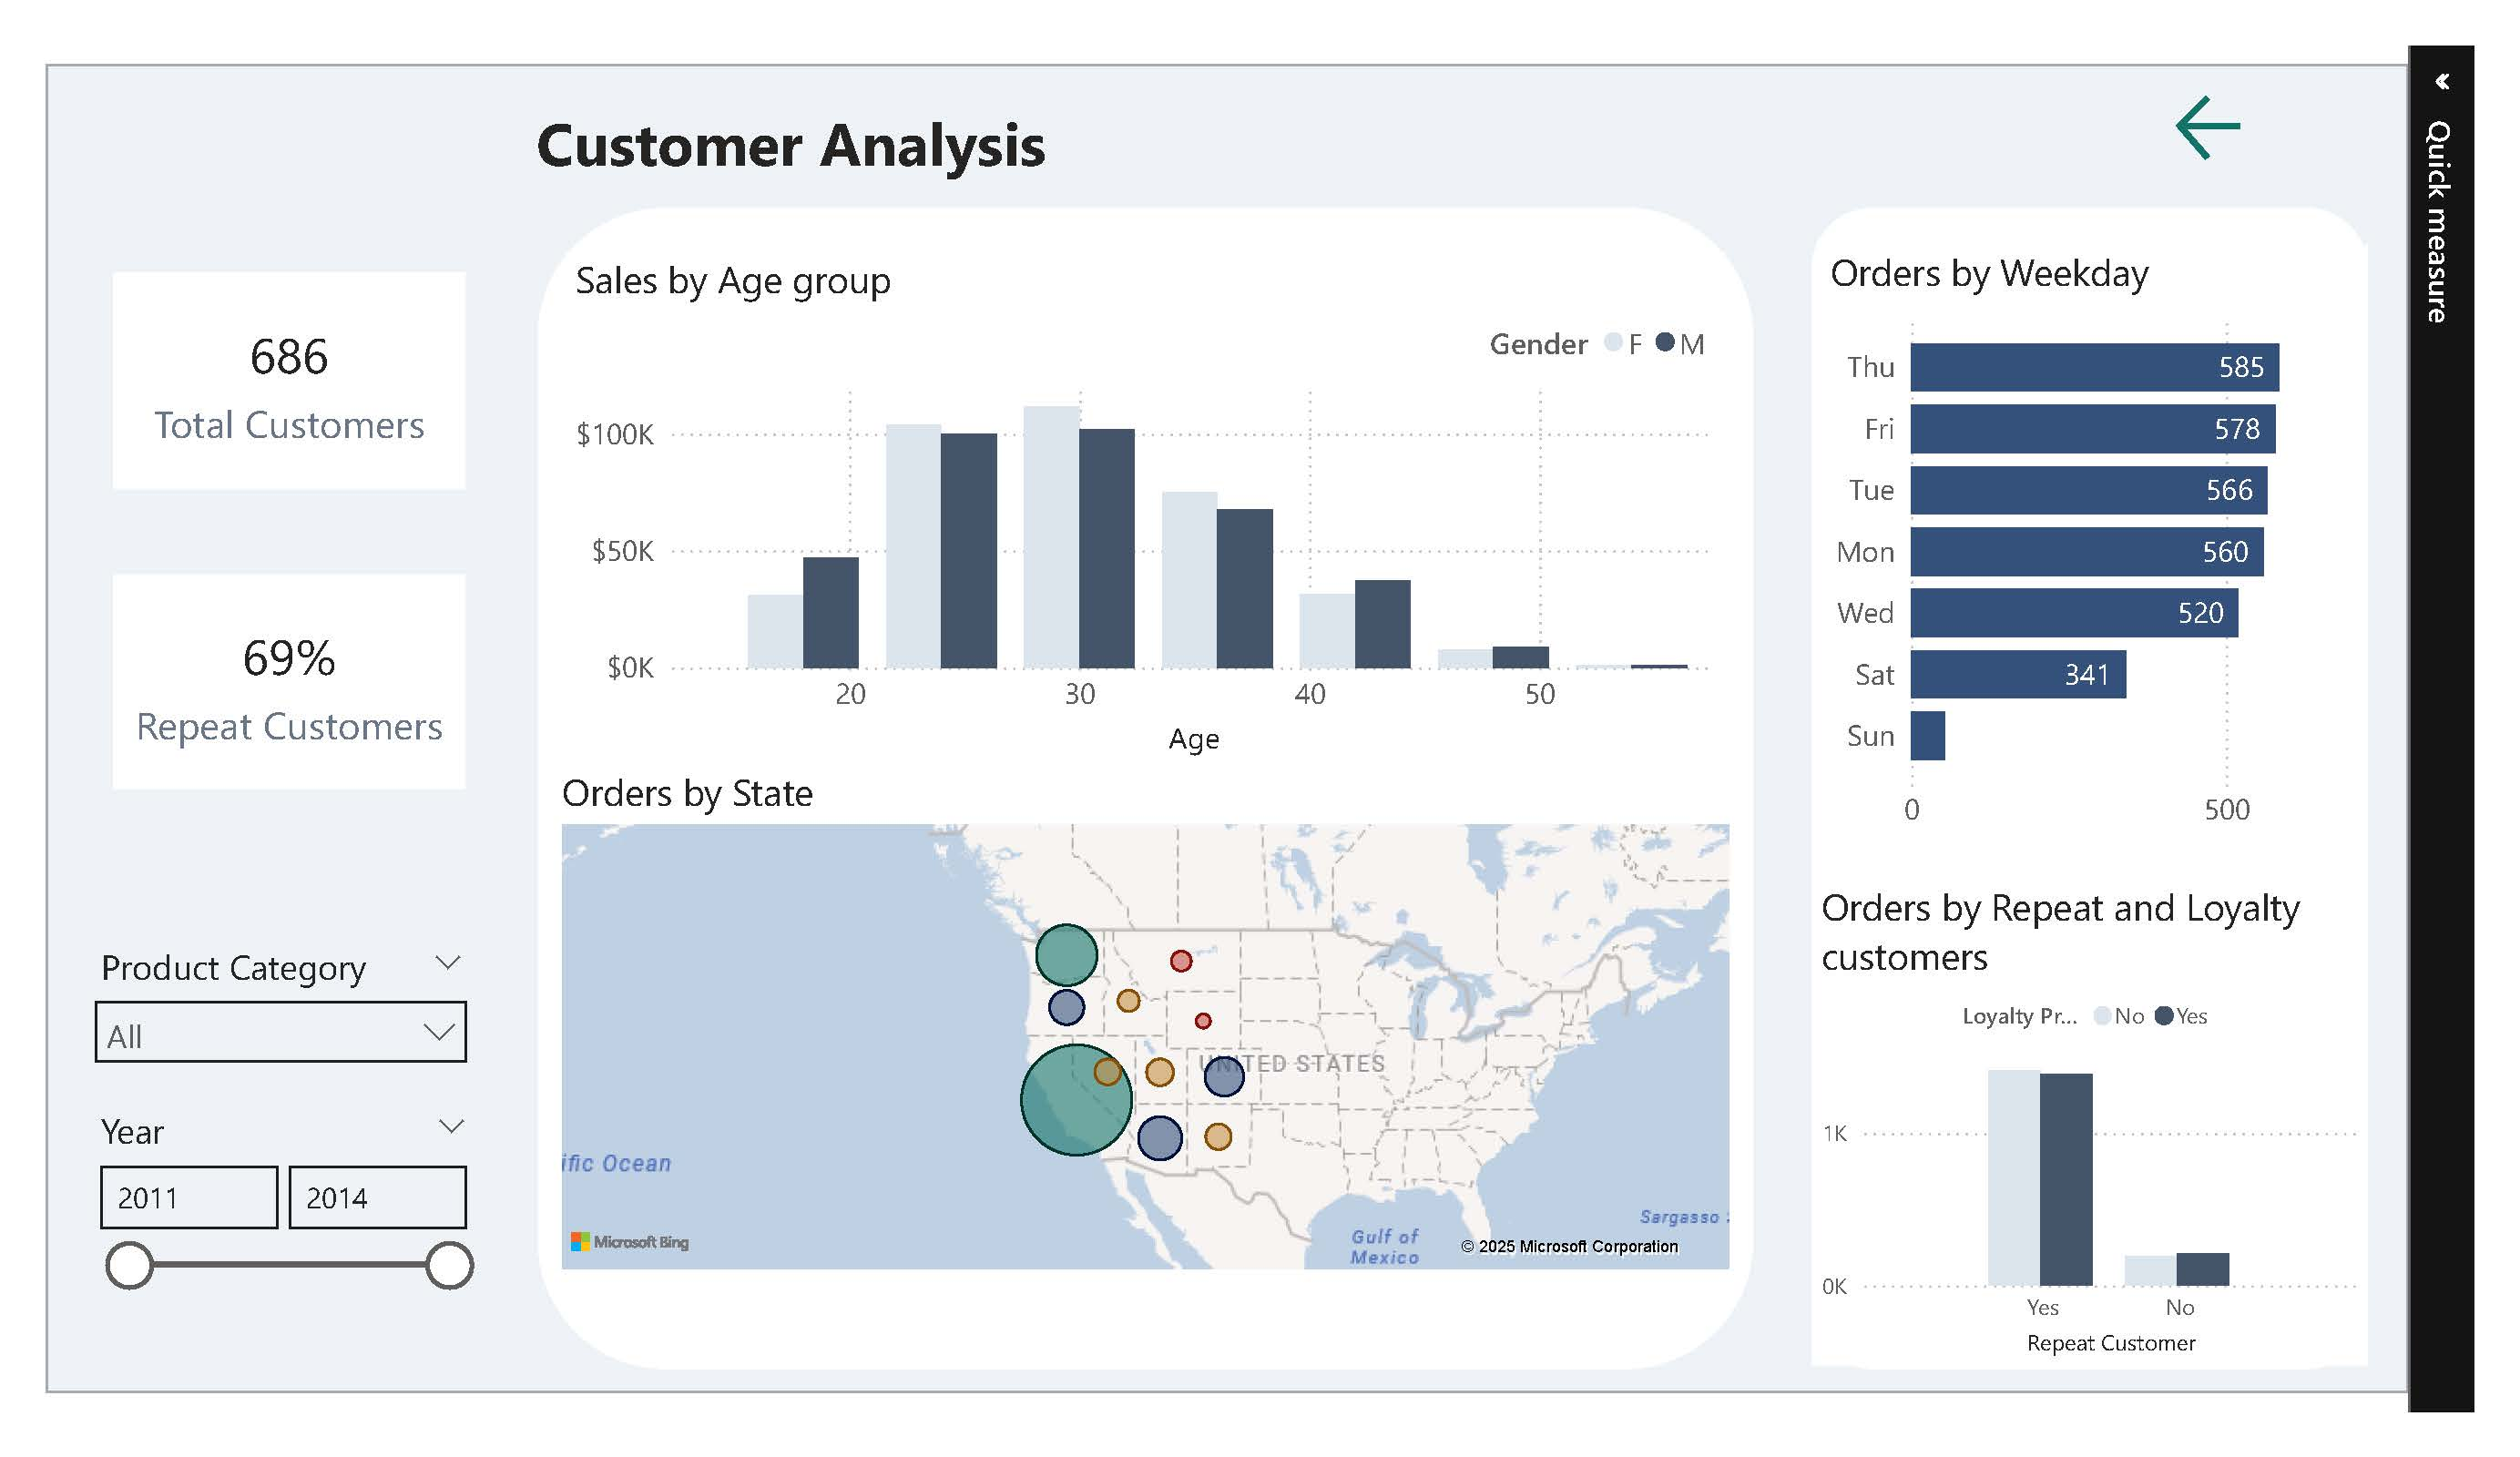

Layout of this report page (visuals, bound fields, positions):
{"tool":"powerbi","page":{"name":"Customer","canvas":[1280,720],"ordinal":3},"visuals":[{"type":"shape","box":[0,0,1280,720],"z":0},{"type":"shape","box":[266.7,78.3,658.3,628.3],"z":1000},{"type":"shape","box":[956.7,78.3,301.7,628.3],"z":2000},{"type":"clusteredColumnChart","title":"Sales by Age group","fields":{"Category":["Customer.Age (bins)"],"Y":["Sum(Sales.Sales)"],"Series":["Customer.Gender"]},"box":[281.7,101.7,628.3,278.3],"z":3000},{"type":"clusteredBarChart","title":"Orders by Weekday","fields":{"Category":["Sales.Weekday name"],"Y":["CountNonNull(Sales.Order ID)"]},"box":[961.4,98.6,297.1,281.4],"z":4000},{"type":"card","fields":{"Values":["Count(Customer.EmailID)"]},"box":[36.7,113.3,190,116.7],"z":5000},{"type":"card","fields":{"Values":["Customer.% repeat cust"]},"box":[36.7,276.7,190,116.7],"z":6000},{"type":"clusteredColumnChart","title":"Orders by Repeat and Loyalty customers","fields":{"Category":["Customer.Is Repeat Customer"],"Series":["Customer.Loyalty Program"],"Y":["CountNonNull(Sales.Order ID)"]},"box":[957.1,394.3,301.4,282.9],"z":7000},{"type":"textbox","box":[261.5,15.4,415.3,63.2],"z":8000},{"type":"map","title":"Orders by State ","fields":{"Category":["Sales.Location State"],"Size":["Sales.Orders per State Measure"]},"box":[276.2,380,641.2,307.5],"z":9000},{"type":"actionButton","box":[1150,11.7,50,45],"z":10000},{"type":"slicer","fields":{"Values":["Product.Category"]},"box":[17.3,471.3,220.7,78.8],"z":11000},{"type":"slicer","fields":{"Values":["Sales.Order Date.Variation.Date Hierarchy.Year"]},"box":[16.7,560,223.3,160],"z":12000}]}

Visuals, with their boxes on the page's 1280x720 design canvas (x1, y1, x2, y2). These are canvas units, not pixel positions in the 2520x1457 screenshot, which may show the page scaled, cropped or inside an application window:
shape: l=0, t=0, r=1280, b=720
shape: l=267, t=78, r=925, b=707
shape: l=957, t=78, r=1258, b=707
"Sales by Age group" clusteredColumnChart: l=282, t=102, r=910, b=380
"Orders by Weekday" clusteredBarChart: l=961, t=99, r=1258, b=380
card - Count(Customer.EmailID): l=37, t=113, r=227, b=230
card - Customer.% repeat cust: l=37, t=277, r=227, b=393
"Orders by Repeat and Loyalty customers" clusteredColumnChart: l=957, t=394, r=1258, b=677
textbox: l=262, t=15, r=677, b=79
"Orders by State " map: l=276, t=380, r=917, b=688
actionButton: l=1150, t=12, r=1200, b=57
slicer - Product.Category: l=17, t=471, r=238, b=550
slicer - Sales.Order Date.Variation.Date Hierarchy.Year: l=17, t=560, r=240, b=720
